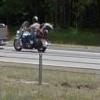Motorcycle: (10, 15, 59, 58)
